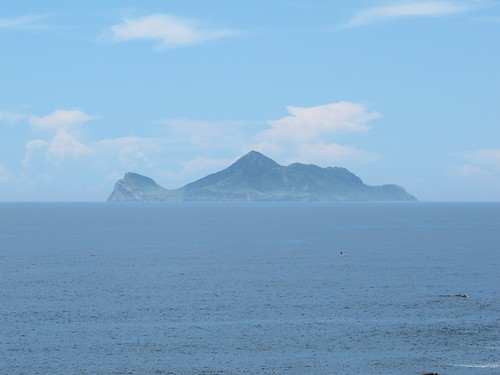turtleIslandLeft: (105, 151, 420, 205)
